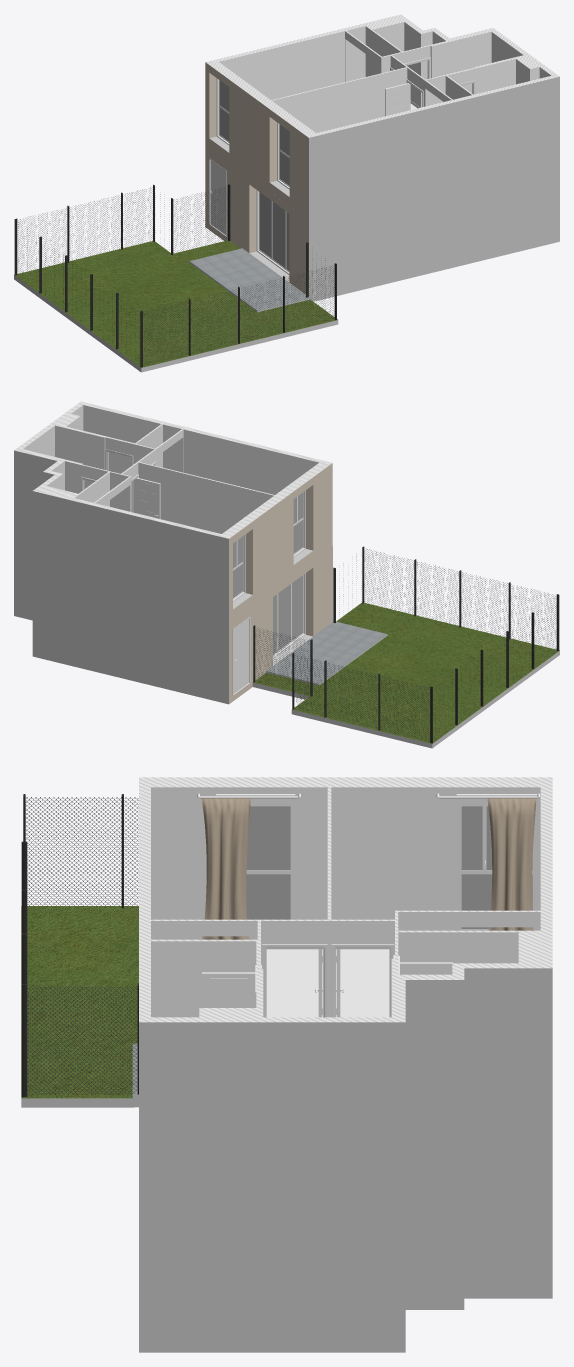
3 renders of one model, top to bottom at view 1: azimuth 30°, elevation 25°; view 2: azimuth 150°, elevation 25°; view 3: azimuth 270°, elevation 25°, orthographic. The views are drawn at different scales.
Parts seen in each view (by area): view 1: masonr_02_ext, masonr_01_ext, ground_garden_01, masonry_02, fence_01, wallpaint_02, section_face_02, ground_terrace_02, fence_bars_01, french_window_triple_01, door_01, french_window_simple_01 (+2 smaller); view 2: masonr_02_ext, masonr_01_ext, ground_garden_01, masonry_02, fence_01, wallpaint_003, section_face_02, ground_terrace_02, fence_bars_01, french_window_triple_01, door_01, walltiles_decor_02 (+3 smaller); view 3: masonr_01_ext, masonr_02_ext, masonry_02, ground_garden_01, section_face_02, fence_01, french_window_simple_02, curtain_03, curtain_02, french_window_simple_01, ground_bed_02, ground_bed_01 (+4 smaller).
Boxes of the visible parts, x1=… form: masonr_02_ext: x1=205, y1=62, x2=559, y2=220; masonr_01_ext: x1=14, y1=145, x2=559, y2=372; ground_garden_01: x1=14, y1=240, x2=337, y2=367; masonry_02: x1=272, y1=22, x2=551, y2=132; fence_01: x1=18, y1=187, x2=334, y2=364; wallpaint_02: x1=219, y1=31, x2=344, y2=99; section_face_02: x1=205, y1=14, x2=559, y2=137; ground_terrace_02: x1=190, y1=248, x2=309, y2=310; fence_bars_01: x1=14, y1=184, x2=336, y2=367; french_window_triple_01: x1=256, y1=190, x2=289, y2=274; door_01: x1=209, y1=158, x2=226, y2=236; french_window_simple_01: x1=216, y1=78, x2=229, y2=145; masonr_02_ext: x1=14, y1=450, x2=332, y2=621; masonr_01_ext: x1=14, y1=533, x2=559, y2=748; ground_garden_01: x1=253, y1=602, x2=559, y2=743; masonry_02: x1=23, y1=405, x2=273, y2=533; fence_01: x1=255, y1=549, x2=556, y2=741; wallpaint_003: x1=183, y1=429, x2=318, y2=494; section_face_02: x1=14, y1=401, x2=332, y2=538; ground_terrace_02: x1=266, y1=621, x2=387, y2=683; fence_bars_01: x1=253, y1=546, x2=559, y2=743; french_window_triple_01: x1=273, y1=573, x2=305, y2=658; door_01: x1=232, y1=616, x2=250, y2=695; walltiles_decor_02: x1=83, y1=419, x2=133, y2=473; masonr_01_ext: x1=21, y1=1095, x2=552, y2=1352; masonr_02_ext: x1=139, y1=968, x2=552, y2=1187; masonry_02: x1=151, y1=787, x2=540, y2=1017; ground_garden_01: x1=21, y1=906, x2=138, y2=1098; section_face_02: x1=139, y1=777, x2=552, y2=1022; fence_01: x1=26, y1=797, x2=138, y2=1094; french_window_simple_02: x1=216, y1=794, x2=295, y2=919; curtain_03: x1=202, y1=798, x2=250, y2=939; curtain_02: x1=487, y1=798, x2=536, y2=930; french_window_simple_01: x1=456, y1=794, x2=537, y2=930; ground_bed_02: x1=266, y1=949, x2=322, y2=1017; ground_bed_01: x1=336, y1=949, x2=389, y2=1017.
Bounding box in the file's own units: 15.34 × 5.4 × 7.88.
Materials: 72 (43 with a texture image).
